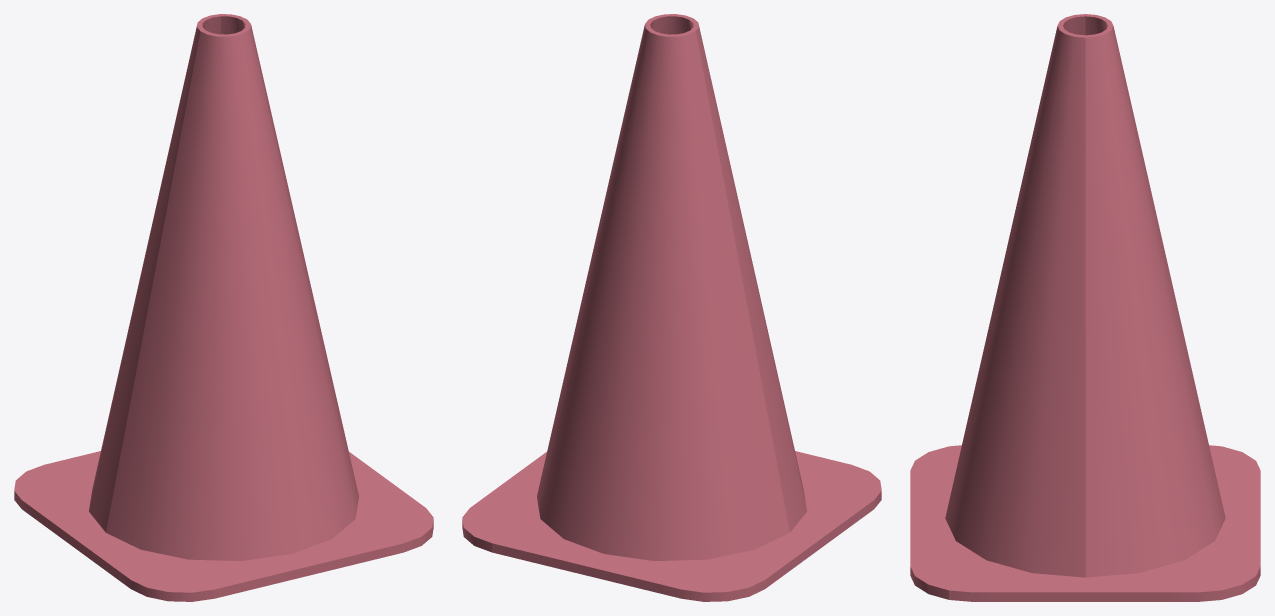
3 views of the same model, side by side, from view 1: azimuth 30°, elevation 25°; view 2: azimuth 150°, elevation 25°; view 3: azimuth 270°, elevation 25° (orthographic). The views are drawn at different scales.
Parts seen in each view (by area): view 1: split_parent_0; view 2: split_parent_0; view 3: split_parent_0.
Part boxes in pixels (x1,y1,x2,y2): split_parent_0: [14, 14, 433, 601]; split_parent_0: [462, 14, 881, 601]; split_parent_0: [910, 14, 1260, 601].
Bounding box in the file's own units: 0.6329 × 1 × 0.6329.
